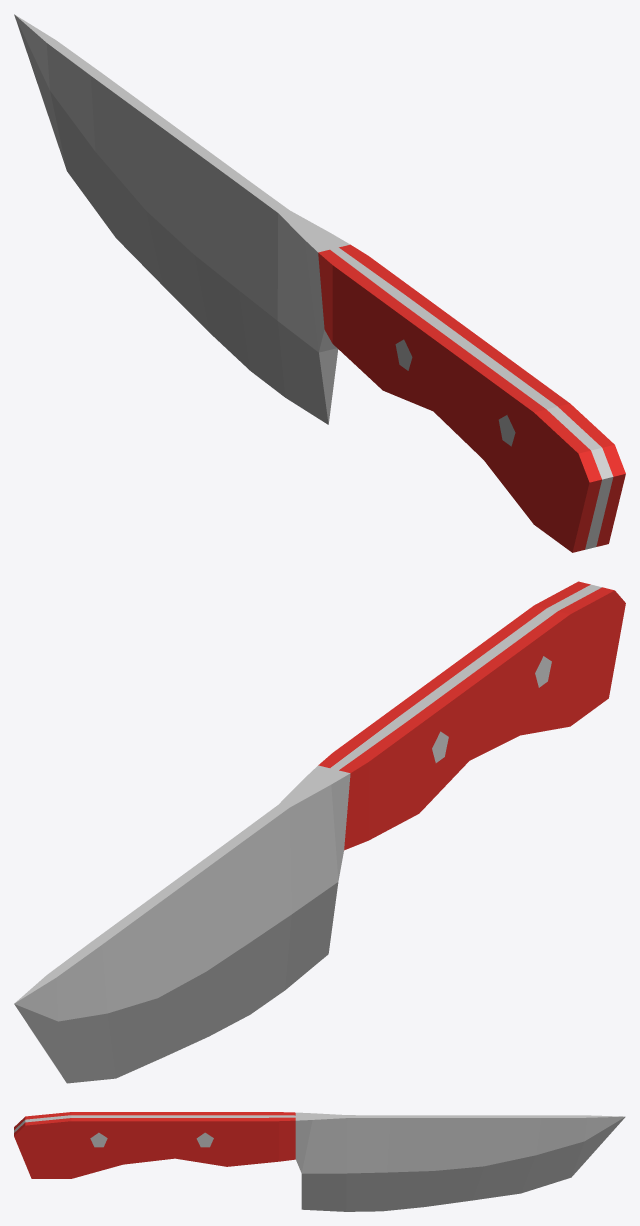
File: knife.fbx
3 views of the same model, one above another, from view 1: azimuth 30°, elevation 25°; view 2: azimuth 150°, elevation 25°; view 3: azimuth 270°, elevation 25° (orthographic). The views are drawn at different scales.
Visible parts, largest first — view 1: Cube; view 2: Cube; view 3: Cube.
Boxes of the visible parts, bbox=[...] form: Cube: bbox=[14, 14, 625, 552]; Cube: bbox=[14, 581, 625, 1083]; Cube: bbox=[14, 1112, 625, 1211].
Bounding box in the file's own units: 96.85 × 470 × 2734.
